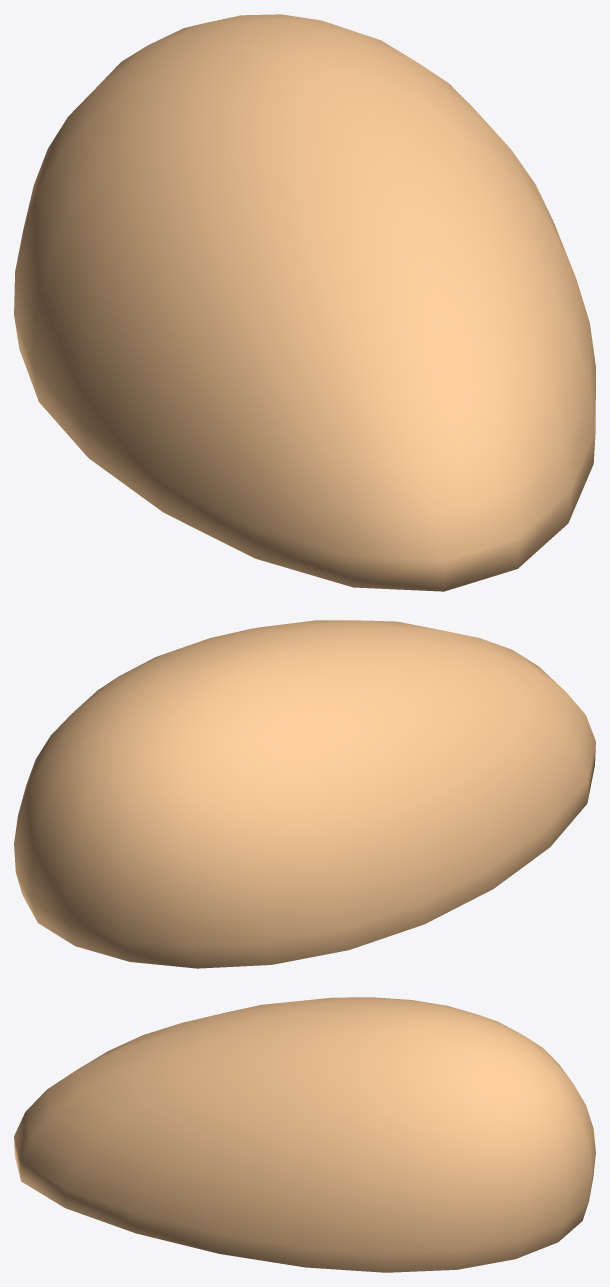
File: player_leg.obj
3 views of the same model, one above another, from view 1: azimuth 30°, elevation 25°; view 2: azimuth 150°, elevation 25°; view 3: azimuth 270°, elevation 25° (orthographic). The views are drawn at different scales.
Parts seen in each view (by area): view 1: pSphere1; view 2: pSphere1; view 3: pSphere1.
Boxes of the visible parts, x1,y1,x2,y2 form: pSphere1: [14, 14, 595, 591]; pSphere1: [14, 620, 595, 968]; pSphere1: [14, 997, 595, 1272].
Bounding box in the file's own units: 2.09 × 1.16 × 3.23.
Materials: 1 (1 with a texture image).
